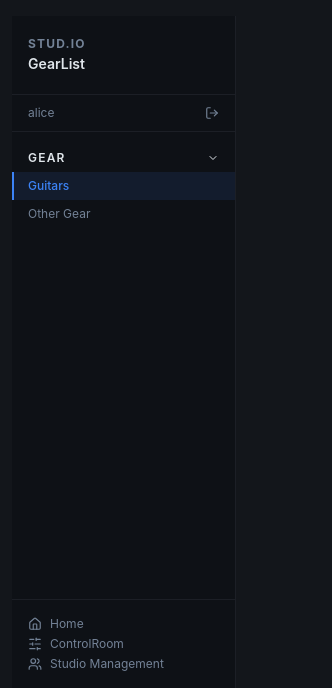
GearListSidebar › collapses and expands the GEAR group on toggle
Click the button "GEAR": click(124, 158) [12,144,235,172]
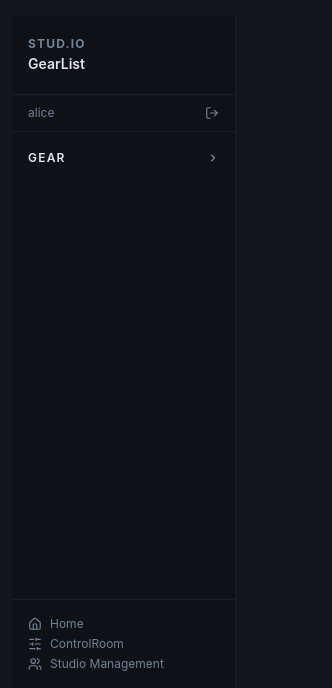
expect the link "Guitars" is gone: met
Click the button "GEAR": click(124, 158) [12,144,235,172]
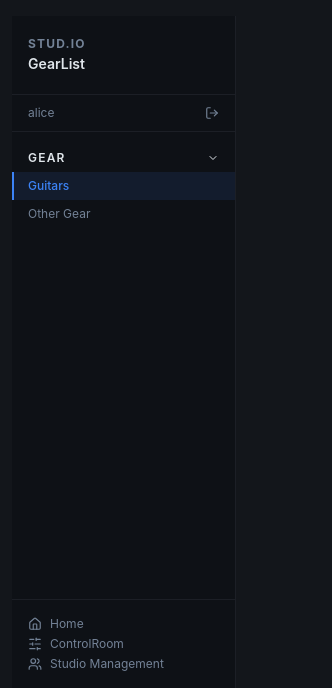
expect the link "Guitars" is shown: met, box [12,172,235,200]
